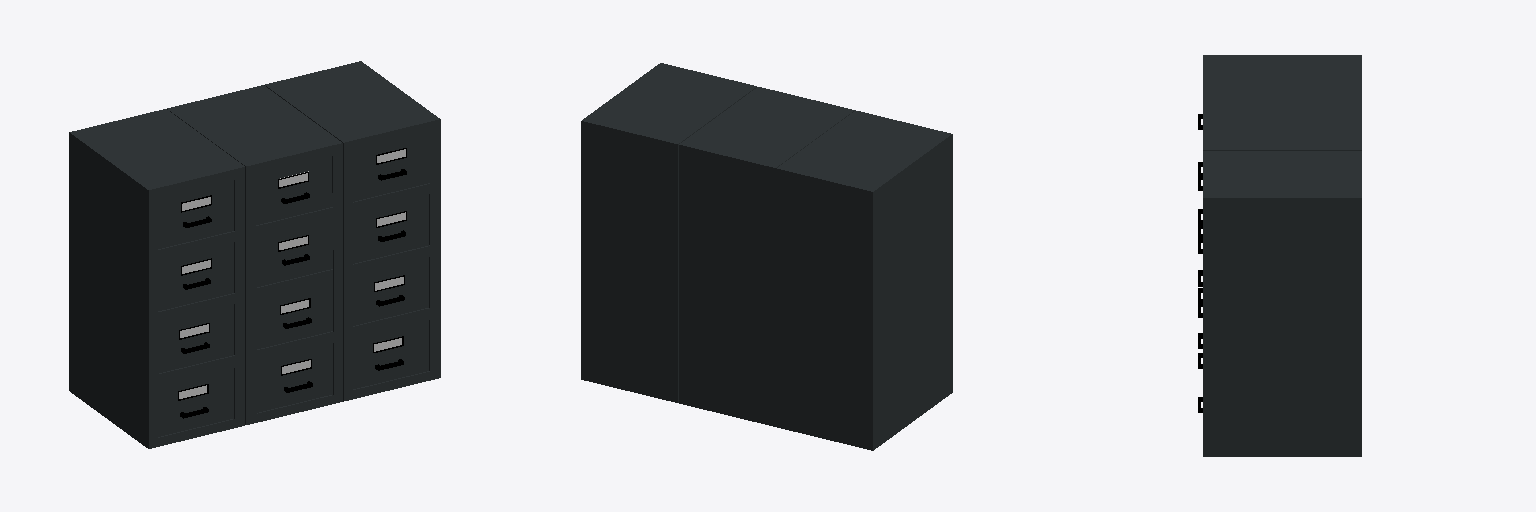
3 views of the same model, side by side, from view 1: azimuth 30°, elevation 25°; view 2: azimuth 150°, elevation 25°; view 3: azimuth 270°, elevation 25° (orthographic).
Parts seen in each view (by area): view 1: objDocuments; view 2: objDocuments; view 3: objDocuments.
Part boxes in pixels (left/top/right/bottom): objDocuments: left=69, top=61, right=440, bottom=448; objDocuments: left=581, top=63, right=952, bottom=450; objDocuments: left=1198, top=55, right=1361, bottom=456.
Bounding box in the file's own units: 3.58 × 3.04 × 1.73.